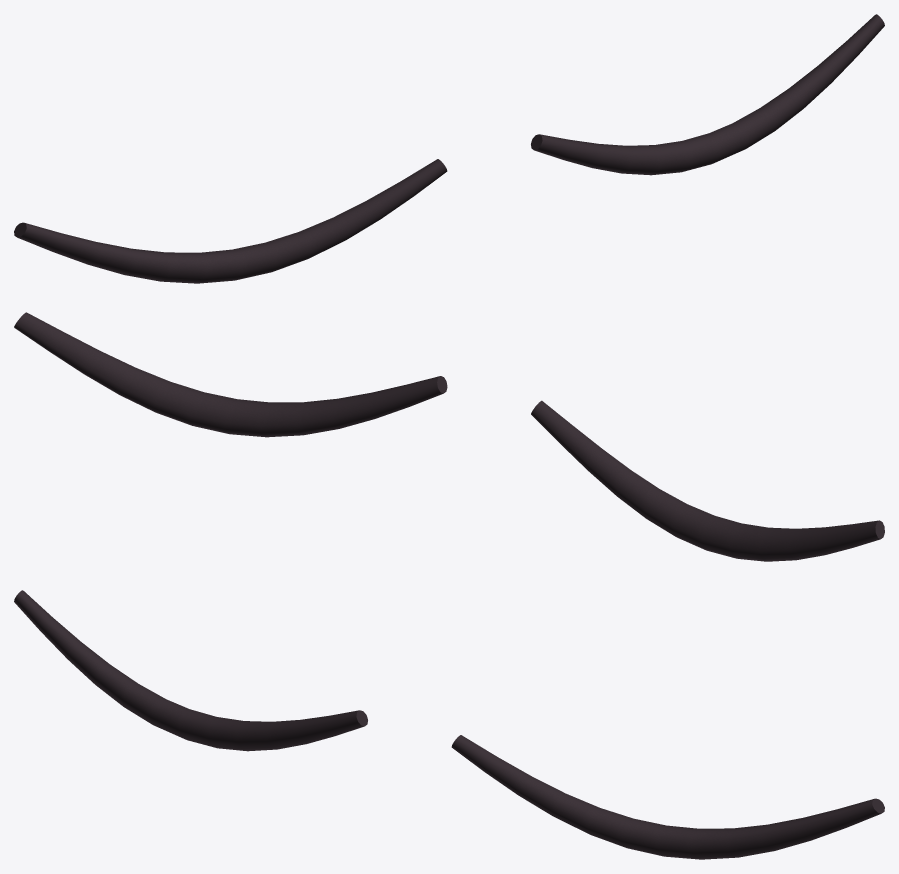
Rendered from facial_pencil_moustache_default.gltf.
The picture shows the model from 3 angles, top to bottom: view 1: azimuth 30°, elevation 25°; view 2: azimuth 150°, elevation 25°; view 3: azimuth 330°, elevation 25°; orthographic projection.
Parts seen in each view (by area): view 1: Pencil Moustache; view 2: Pencil Moustache; view 3: Pencil Moustache.
Boxes of the visible parts, x1,y1,x2,y2 form: Pencil Moustache: [14, 14, 884, 283]; Pencil Moustache: [14, 312, 884, 561]; Pencil Moustache: [14, 590, 884, 859].
Size of the model in its own units: 0.1653 by 0.0159 by 0.0158.
Materials: 1 (1 with a texture image).
